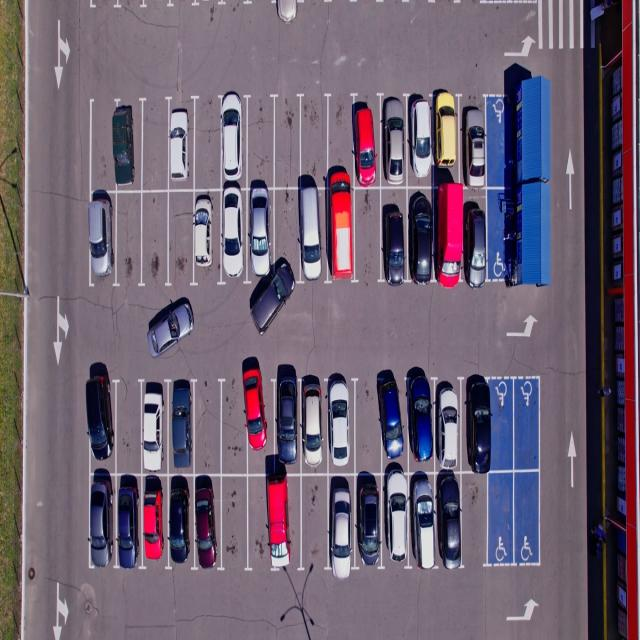space-empty: (298, 472, 332, 574), (139, 190, 171, 287), (192, 97, 224, 193), (218, 378, 249, 476), (140, 97, 171, 193), (168, 188, 198, 287), (193, 378, 224, 473), (115, 381, 146, 476), (327, 94, 359, 186), (271, 188, 303, 279), (114, 190, 144, 287), (351, 187, 382, 280), (352, 377, 382, 472), (219, 474, 248, 570), (247, 96, 276, 188), (514, 471, 543, 562), (462, 471, 490, 565), (486, 470, 514, 564), (273, 97, 302, 186), (248, 472, 274, 571), (515, 378, 542, 471), (489, 379, 515, 475), (298, 99, 326, 188), (90, 101, 114, 190)
space-occupied: (268, 471, 303, 574), (245, 372, 278, 473), (431, 183, 464, 281), (167, 96, 200, 192), (191, 472, 223, 568), (168, 377, 200, 473), (326, 375, 358, 471), (350, 471, 382, 567), (112, 97, 144, 193), (190, 189, 222, 284), (84, 374, 115, 472), (326, 474, 357, 572), (216, 188, 248, 282), (378, 473, 410, 567), (296, 186, 328, 280), (85, 191, 116, 287), (273, 375, 303, 474), (246, 186, 277, 278), (140, 381, 170, 476), (299, 375, 329, 470), (378, 186, 408, 281), (432, 376, 462, 470), (378, 96, 408, 188), (407, 92, 437, 184), (219, 96, 248, 191), (378, 377, 407, 472), (140, 472, 169, 566), (408, 186, 437, 280), (327, 186, 356, 279), (407, 376, 435, 472), (169, 472, 197, 567), (465, 378, 493, 473), (432, 94, 461, 185), (432, 470, 460, 564), (353, 96, 382, 186), (115, 472, 143, 564), (409, 470, 436, 564), (87, 475, 114, 565), (464, 96, 490, 187), (464, 189, 487, 289)
